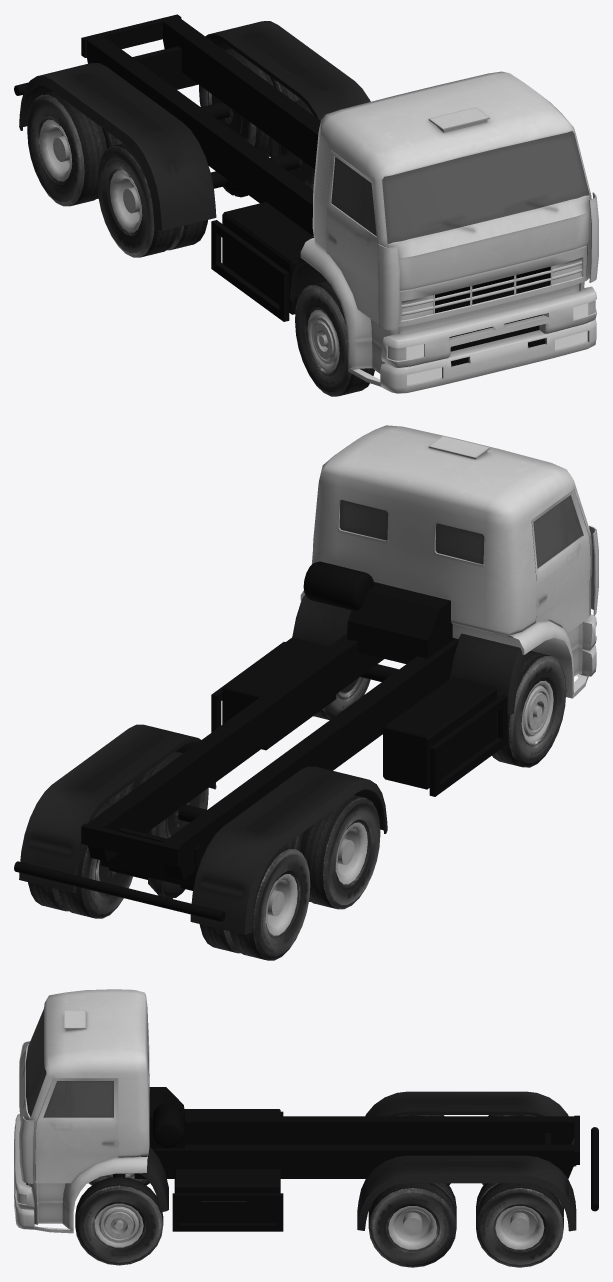
Rendered from Kamaz LOD.fbx.
3 renders of one model, top to bottom at view 1: azimuth 30°, elevation 25°; view 2: azimuth 150°, elevation 25°; view 3: azimuth 270°, elevation 25°, orthographic. The views are drawn at different scales.
Visible parts, largest first — view 1: Kamaz LOD; view 2: Kamaz LOD; view 3: Kamaz LOD.
Boxes of the visible parts, bbox=[...] form: Kamaz LOD: bbox=[14, 14, 598, 396]; Kamaz LOD: bbox=[14, 425, 598, 960]; Kamaz LOD: bbox=[14, 989, 598, 1267].
Size of the model in its own units: 251 by 279 by 717.
Materials: 1 (1 with a texture image).
